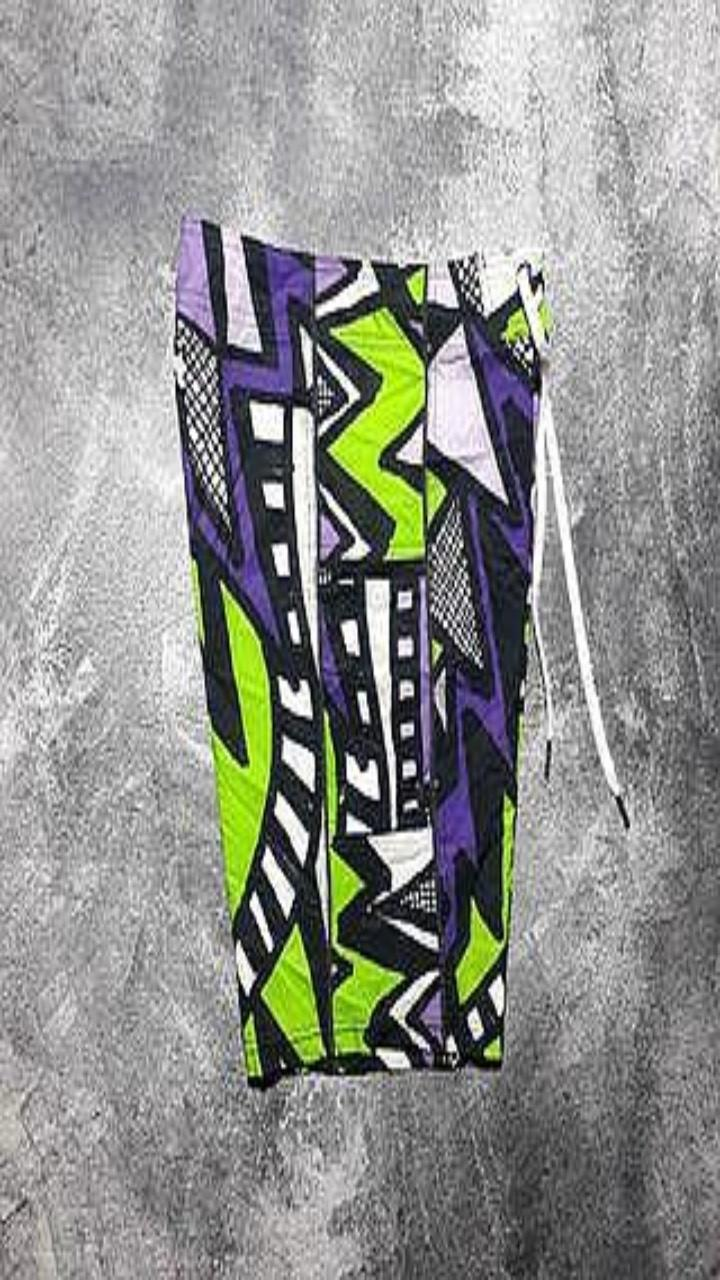Shorts: (174, 215, 550, 1085)
